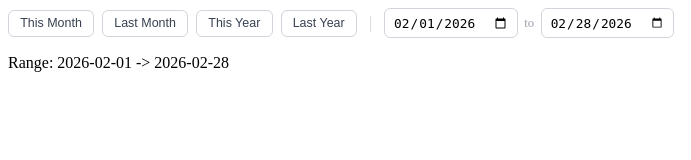
Test: DateRangePicker › propagates manual from/to edits
Step 1. Type "2026-03-01" into the 1st date field → (451, 23), box [384,8,518,38]
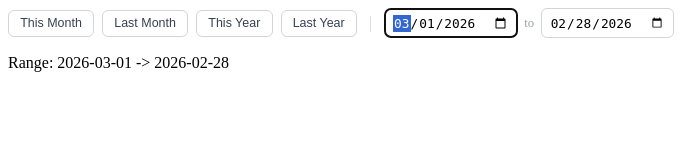
Step 2. Type "2026-03-31" into the 2nd date field → (608, 23), box [541,8,674,38]
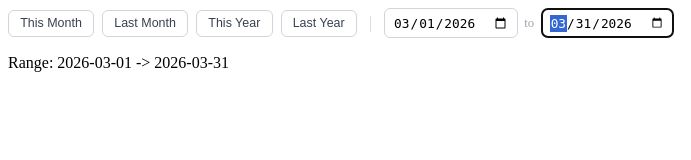
Expected: the text "Range: 2026-03-01 -> 2026-03-31" is shown, [8,54,229,71]
